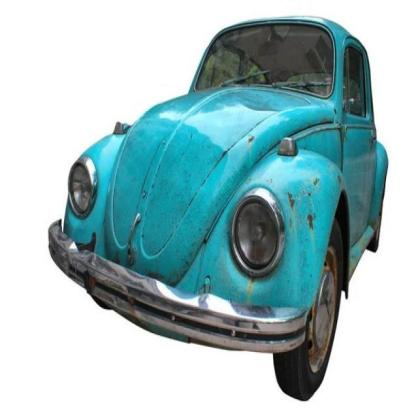car: (45, 14, 391, 400)
